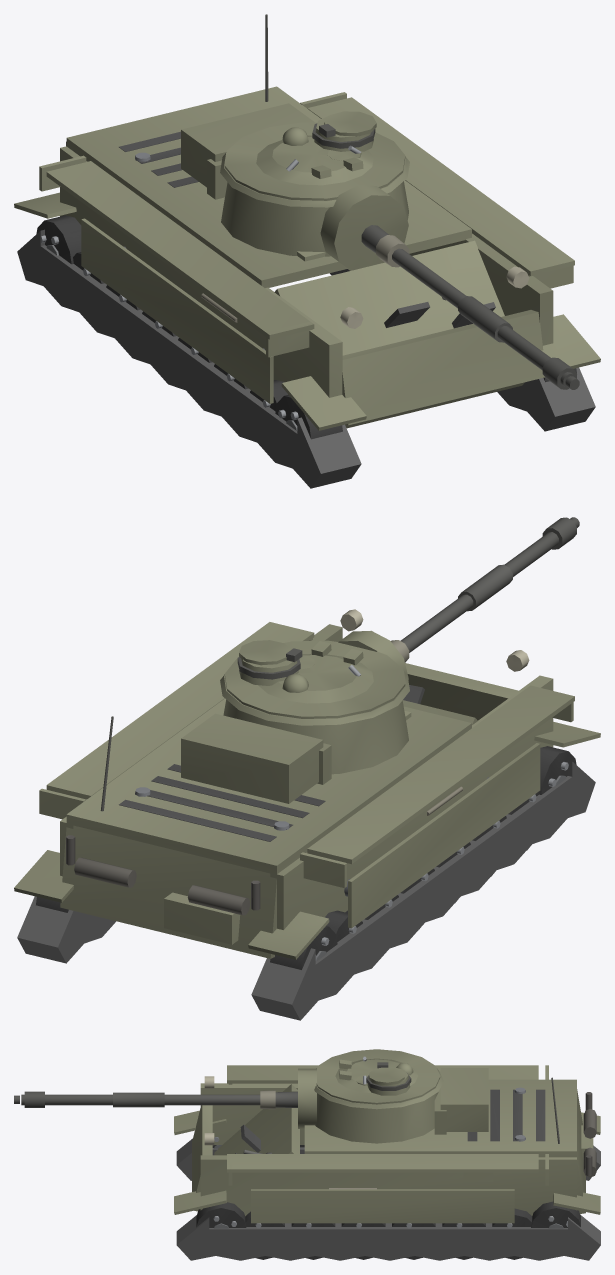
3 renders of one model, top to bottom at view 1: azimuth 30°, elevation 25°; view 2: azimuth 150°, elevation 25°; view 3: azimuth 270°, elevation 25°, orthographic. The views are drawn at different scales.
Visible parts, largest first — view 1: hullSide, tracks, hullTop, glacis, lowerPlate, turretRoof, turretFront, barrel, mantlet, wheel7, turretSide, wheel6 (+1 smaller); view 2: hullSide, tracks, hullTop, hullRear, turretFront, turretRoof, barrel, lowerPlate, turretSide, wheel6, mantlet, wheel7 (+1 smaller); view 3: hullSide, tracks, hullTop, turretFront, turretRoof, barrel, glacis, hullRear, lowerPlate, mantlet, wheel14, wheel15 (+3 smaller).
Boxes of the visible parts, <box> form: hullSide: <box>39,92,574,403</box>; tracks: <box>14,192,600,488</box>; hullTop: <box>66,86,471,287</box>; glacis: <box>274,240,524,428</box>; lowerPlate: <box>342,310,544,425</box>; turretRoof: <box>224,111,405,200</box>; turretFront: <box>181,103,408,256</box>; barrel: <box>361,225,579,389</box>; mantlet: <box>320,185,408,270</box>; wheel7: <box>36,215,81,264</box>; turretSide: <box>220,152,409,207</box>; wheel6: <box>275,394,342,439</box>; hullSide: <box>39,609,574,929</box>; tracks: <box>14,722,600,1020</box>; hullTop: <box>66,698,471,874</box>; hullRear: <box>60,716,278,958</box>; turretFront: <box>181,699,408,803</box>; turretRoof: <box>224,640,405,718</box>; barrel: <box>391,517,579,662</box>; lowerPlate: <box>405,663,518,720</box>; turretSide: <box>220,671,409,725</box>; wheel6: <box>539,746,576,794</box>; mantlet: <box>338,630,408,679</box>; wheel7: <box>270,926,337,969</box>; hullSide: <box>200,1065,576,1223</box>; tracks: <box>174,1110,600,1260</box>; hullTop: <box>304,1079,576,1157</box>; turretFront: <box>315,1068,488,1143</box>; turretRoof: <box>316,1049,440,1104</box>; barrel: <box>14,1090,297,1109</box>; glacis: <box>214,1084,299,1155</box>; hullRear: <box>551,1077,596,1213</box>; lowerPlate: <box>192,1105,212,1211</box>; mantlet: <box>298,1068,316,1128</box>; wheel14: <box>196,1202,246,1228</box>; wheel15: <box>531,1201,580,1228</box>.
Bounding box in the file's own units: 4.12 × 3.02 × 9.82.
